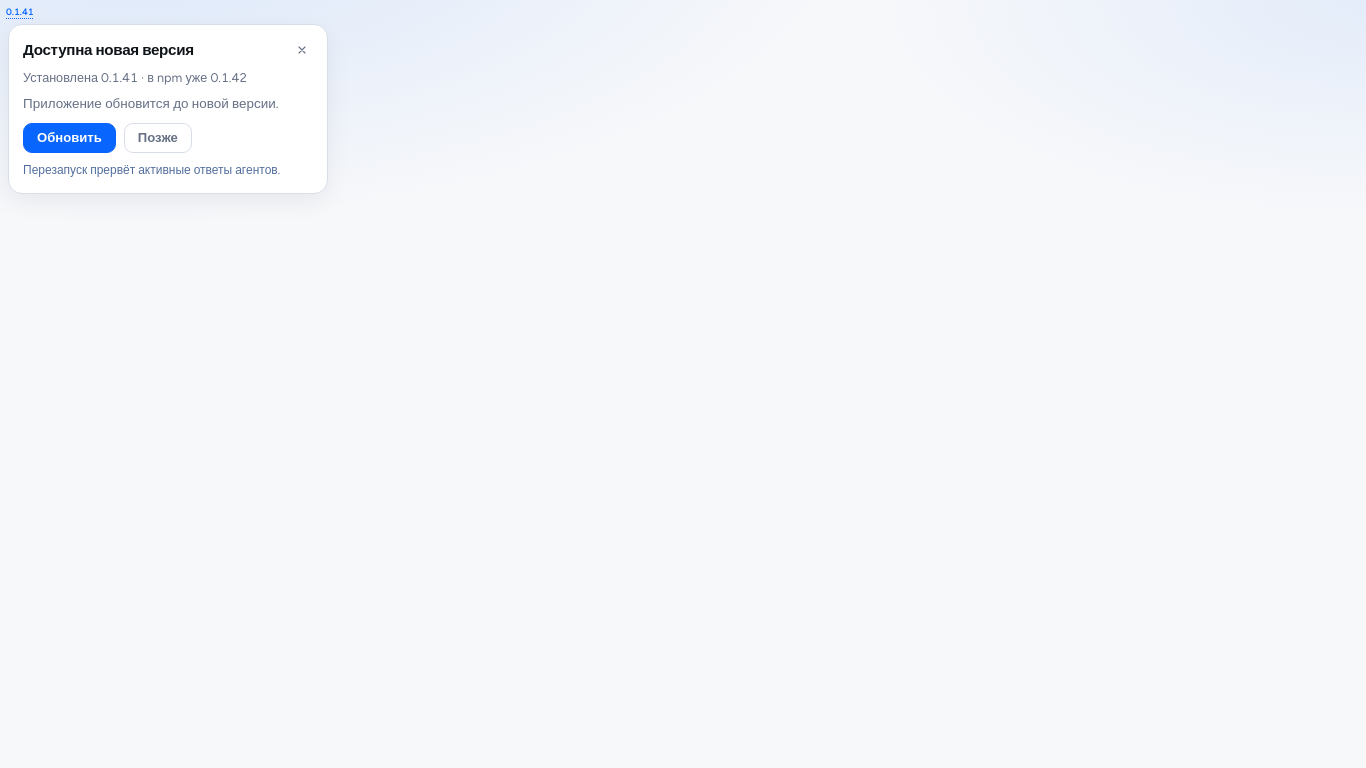
it: AppUpdateNotice › restarts the server onto the downloaded version
Click the button "Обновить".
click(69, 138)  # box [23,123,116,153]
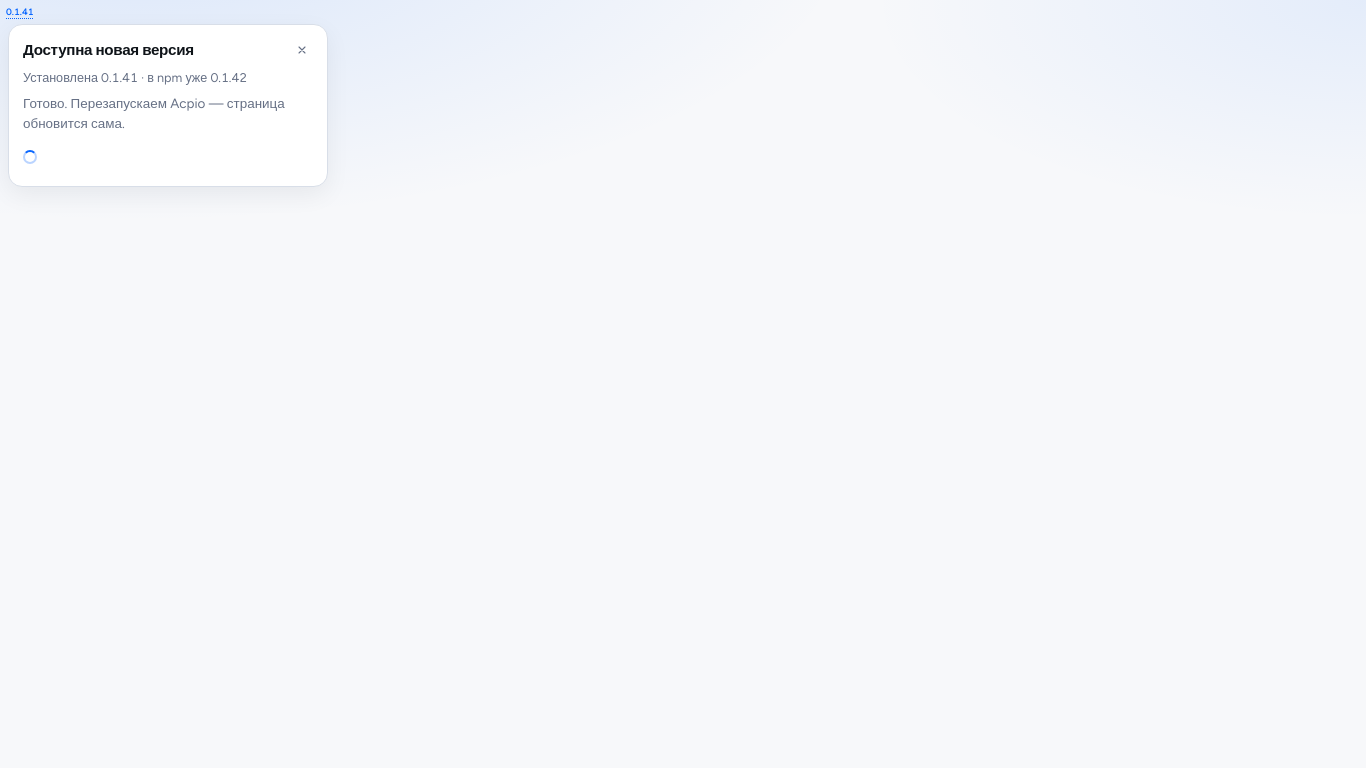
Check: the text "Готово. Перезапускаем Acpio — страница обновится сама." is shown, box [23,94,313,133]
